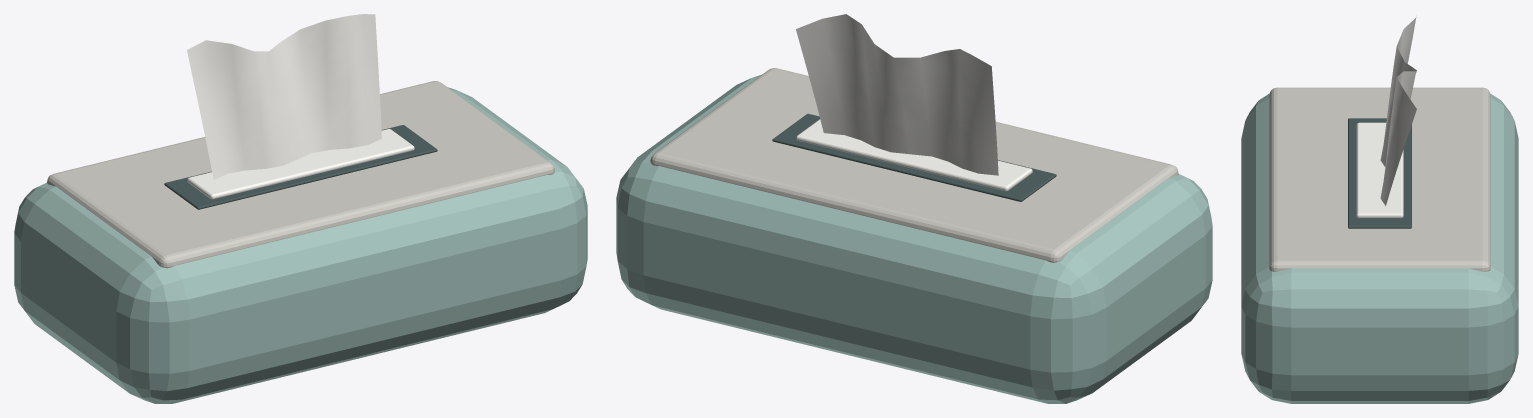
The model's file is tissue_pack.glb.
The picture shows the model from 3 angles, left to right: view 1: azimuth 30°, elevation 25°; view 2: azimuth 150°, elevation 25°; view 3: azimuth 270°, elevation 25°; orthographic projection. The views are drawn at different scales.
Visible parts, largest first — view 1: tissue_pack; view 2: tissue_pack; view 3: tissue_pack.
Boxes of the visible parts, x1,y1,x2,y2 form: tissue_pack: (14,14,587,403); tissue_pack: (616,14,1212,403); tissue_pack: (1241,17,1518,403).
Bounding box in the file's own units: 0.18 × 0.105 × 0.1.
